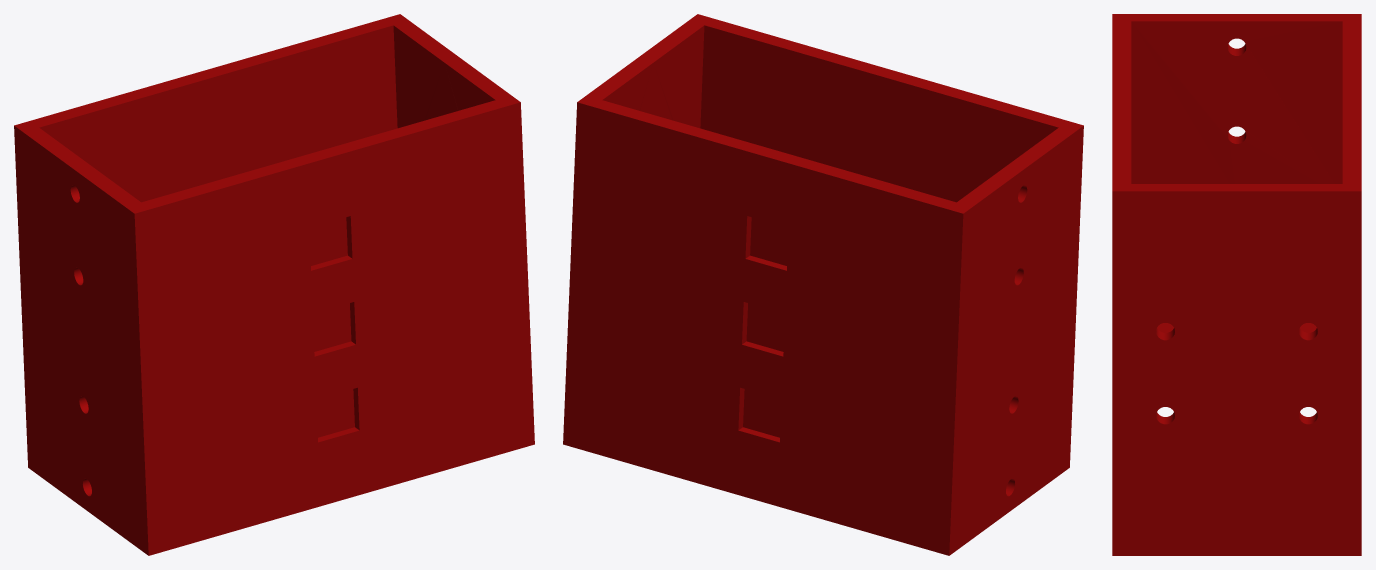
The model's file is leg-5.FBX.
3 renders of one model, left to right at view 1: azimuth 30°, elevation 25°; view 2: azimuth 150°, elevation 25°; view 3: azimuth 270°, elevation 25°, orthographic. The views are drawn at different scales.
Visible parts, largest first — view 1: Box055; view 2: Box055; view 3: Box055.
Part boxes in pixels (x1,y1,x2,y2): Box055: (14,14,534,555); Box055: (563,14,1083,555); Box055: (1112,14,1361,555).
Bounding box in the file's own units: 1.98 × 1.71 × 1.03.
